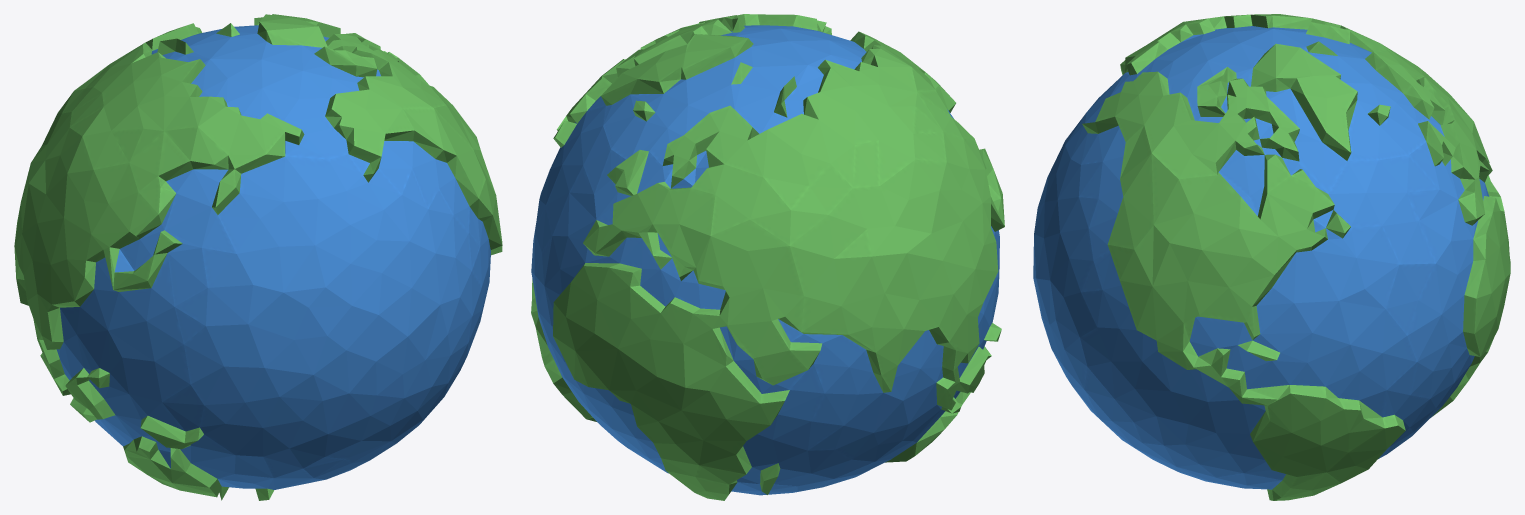
File: Earth.FBX
The picture shows the model from 3 angles, left to right: view 1: azimuth 30°, elevation 25°; view 2: azimuth 150°, elevation 25°; view 3: azimuth 270°, elevation 25°; orthographic projection.
Visible parts, largest first — view 1: Earth; view 2: Earth; view 3: Earth.
Part boxes in pixels (left/top/right/bottom): Earth: left=14, top=14, right=502, bottom=500; Earth: left=531, top=14, right=1004, bottom=500; Earth: left=1033, top=14, right=1510, bottom=500.
Size of the model in its own units: 0.5632 by 0.5585 by 0.5508.
